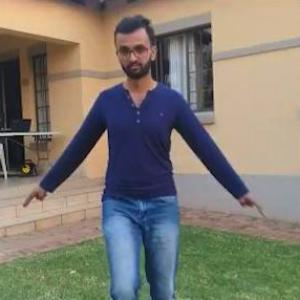land: (80, 66, 202, 278)
